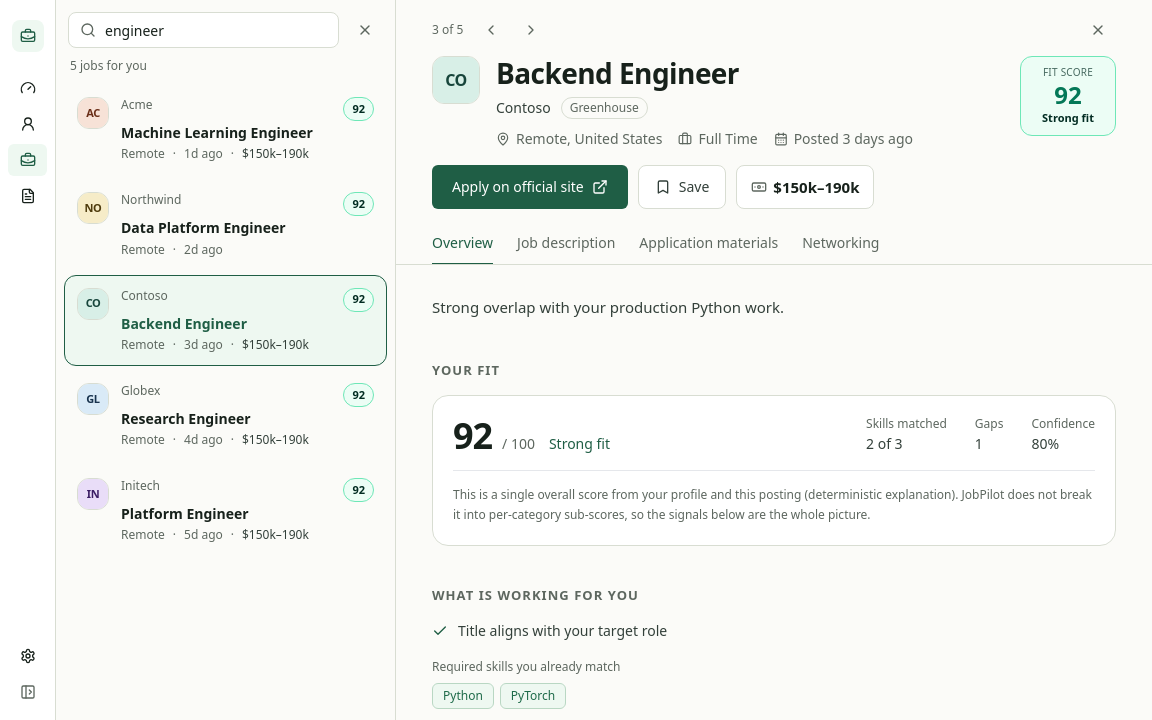
Test: Jobs workspace › closing the detail panel returns to the list and keeps the filters
Expected: the heading "Backend Engineer" is shown, [496,54,739,92]
Step 1. Click the button named "Close job details" → x=1098, y=30, box [1080,12,1116,48]
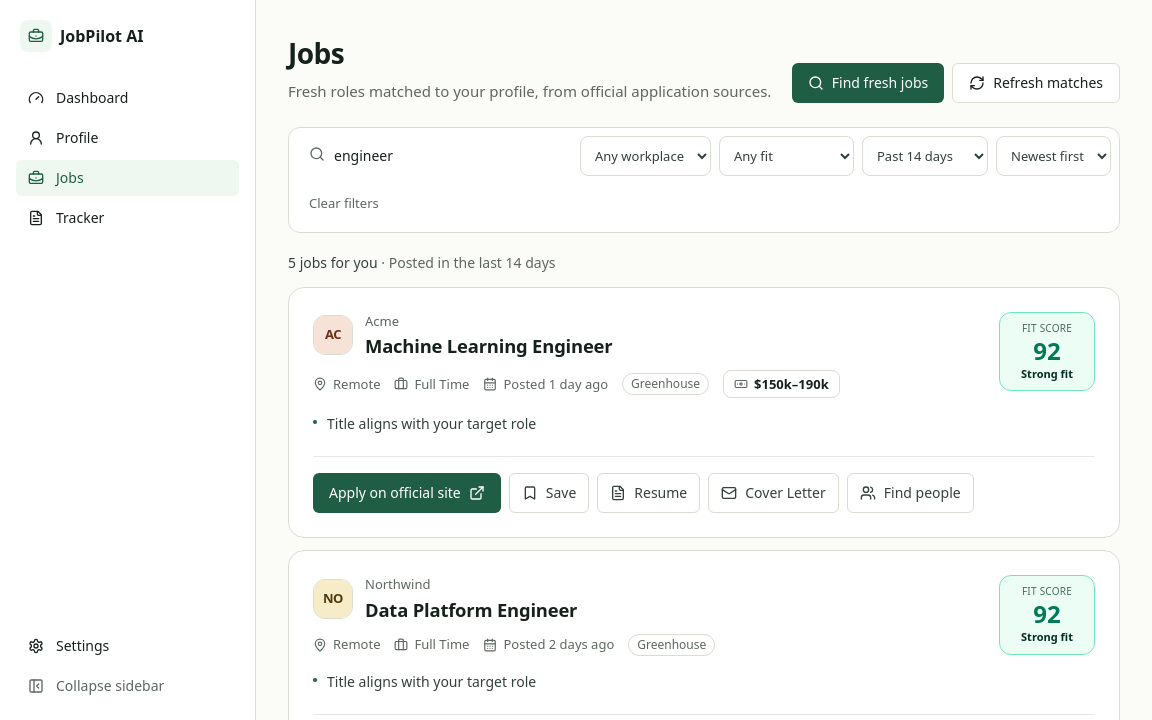
Expected: the heading "Jobs" is shown, [288,34,344,72]
Expected: the field named "role or skill" holds "engineer", [297,136,572,176]
